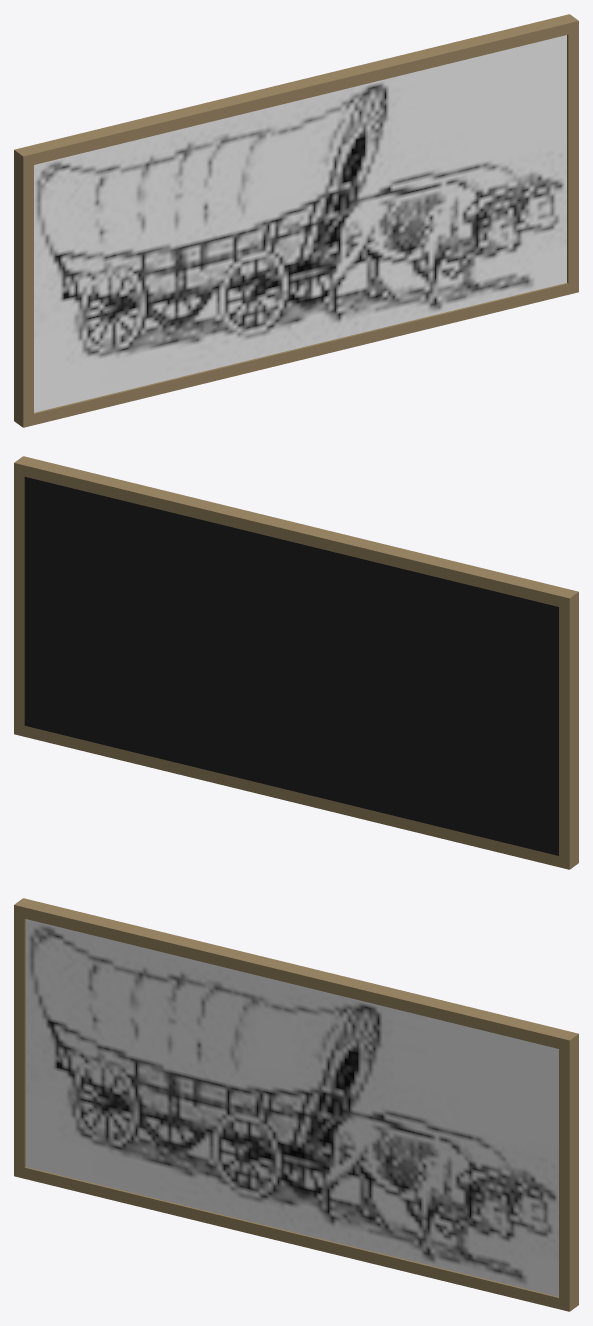
Rendered from 7ded8502-2398-4799-8a26-8cdc8290264b.glb.
3 renders of one model, top to bottom at view 1: azimuth 30°, elevation 25°; view 2: azimuth 150°, elevation 25°; view 3: azimuth 330°, elevation 25°, orthographic.
Visible parts, largest first — view 1: ArtworkPrint, FrameTop, FrameBottom, FrameLeft, FrameRight; view 2: Backing, FrameTop, FrameBottom, FrameLeft, FrameRight; view 3: ArtworkPrint, FrameTop, FrameBottom, FrameRight, FrameLeft.
Boxes of the visible parts, left/top/right/bottom form: ArtworkPrint: left=34, top=35, right=566, bottom=412; FrameTop: left=14, top=14, right=578, bottom=167; FrameBottom: left=14, top=281, right=578, bottom=427; FrameLeft: left=14, top=161, right=33, bottom=416; FrameRight: left=567, top=32, right=578, bottom=283; Backing: left=24, top=477, right=558, bottom=855; FrameTop: left=14, top=456, right=578, bottom=609; FrameBottom: left=14, top=723, right=578, bottom=869; FrameLeft: left=559, top=603, right=578, bottom=858; FrameRight: left=14, top=474, right=24, bottom=725; ArtworkPrint: left=26, top=919, right=558, bottom=1296; FrameTop: left=14, top=898, right=578, bottom=1051; FrameBottom: left=14, top=1165, right=578, bottom=1311; FrameRight: left=559, top=1045, right=578, bottom=1300; FrameLeft: left=14, top=916, right=25, bottom=1167.
Bounding box in the file's own units: 1.04 × 0.4853 × 0.03.
Materials: 3 (1 with a texture image).
